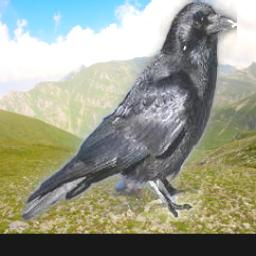Crow: (21, 0, 237, 222)
